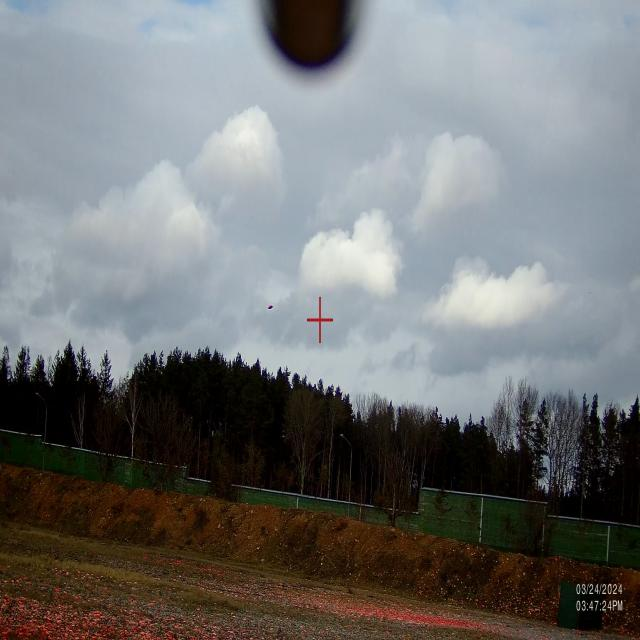entire: (266, 303, 275, 314)
